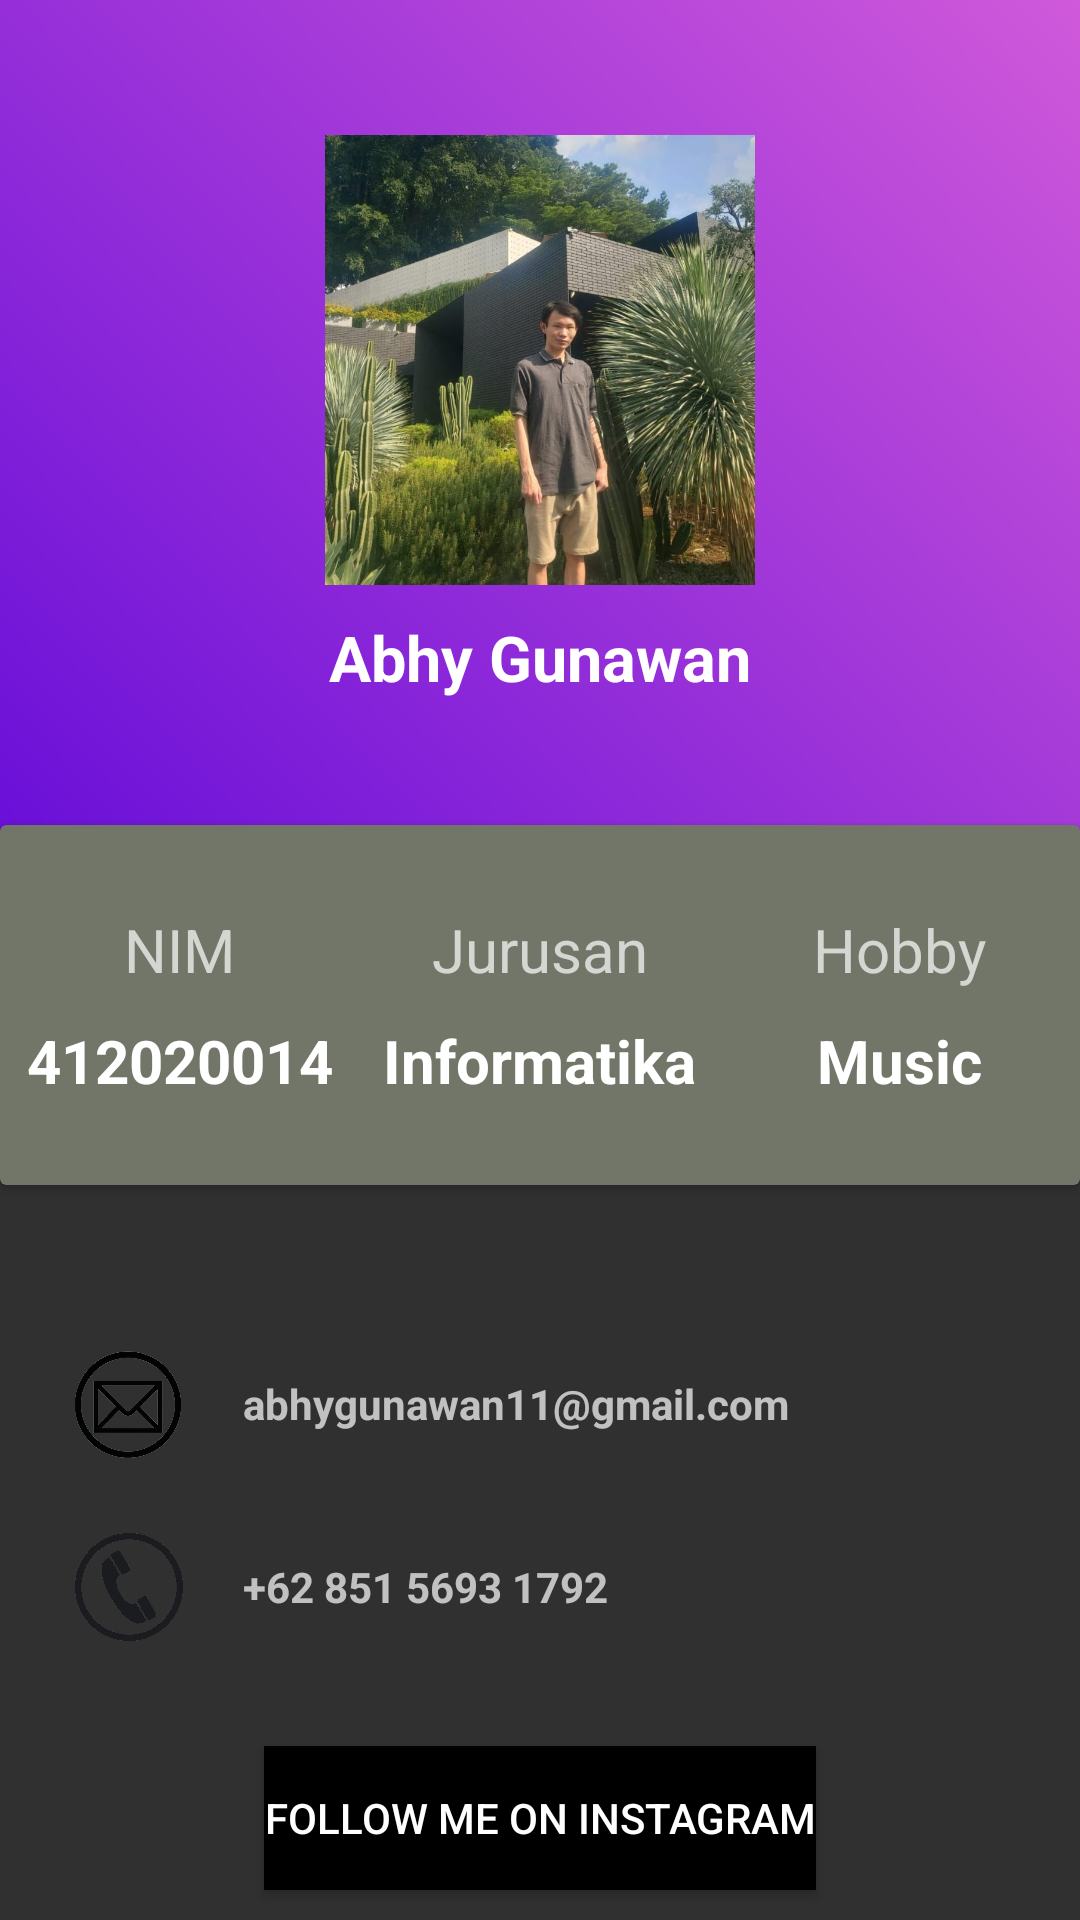

Screen size 1080 × 1920. Icon name, then its box in pixels as bbox(x1, y1, x2, y2):
eml: bbox(75, 1351, 181, 1458)
telp: bbox(77, 1533, 181, 1639)
